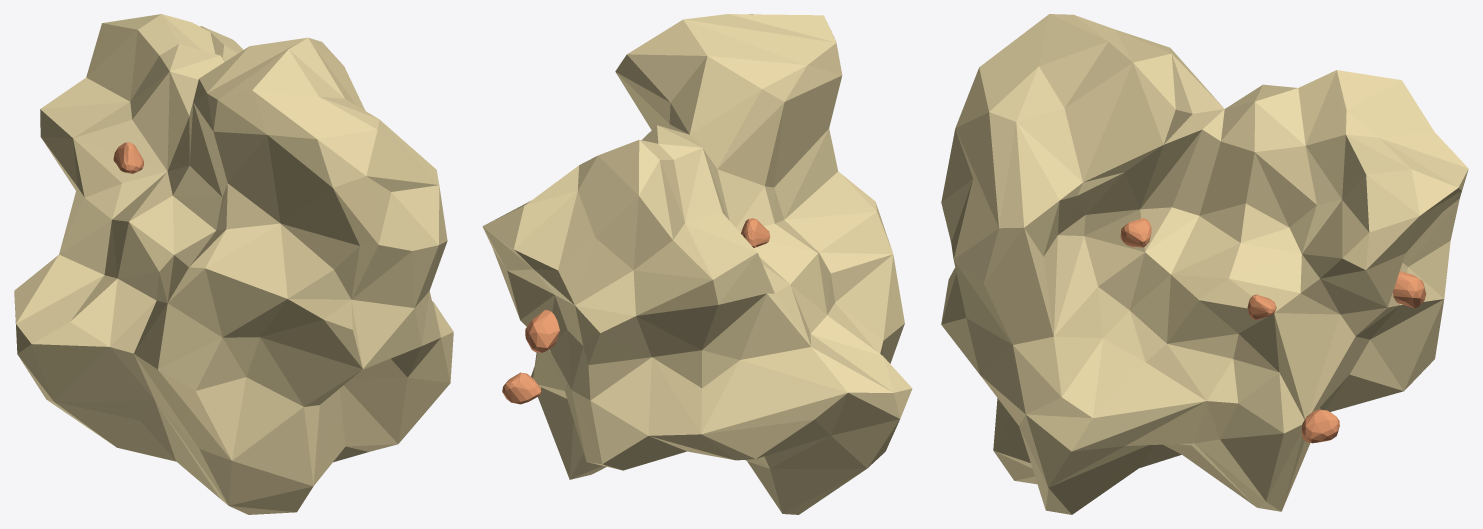
File: StoneOre (35).fbx
3 views of the same model, side by side, from view 1: azimuth 30°, elevation 25°; view 2: azimuth 150°, elevation 25°; view 3: azimuth 270°, elevation 25° (orthographic). The views are drawn at different scales.
Visible parts, largest first — view 1: Asteroid322; view 2: Asteroid322; view 3: Asteroid322.
Part boxes in pixels (x1,y1,x2,y2): Asteroid322: [14, 14, 453, 514]; Asteroid322: [482, 14, 912, 514]; Asteroid322: [941, 14, 1468, 514].
Bounding box in the file's own units: 266 × 299 × 307.
